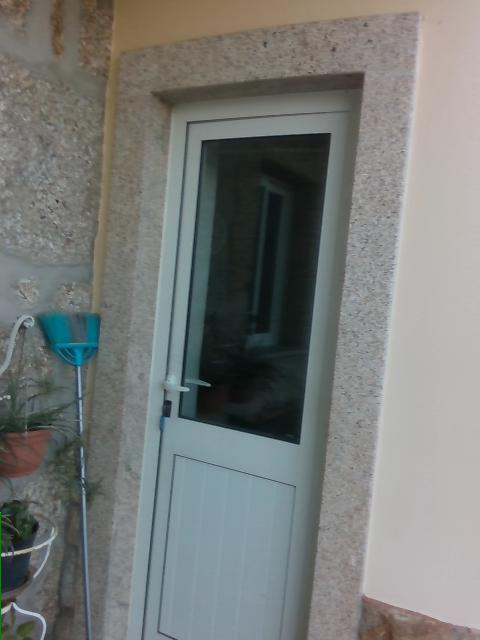closed_door: (122, 87, 357, 639)
